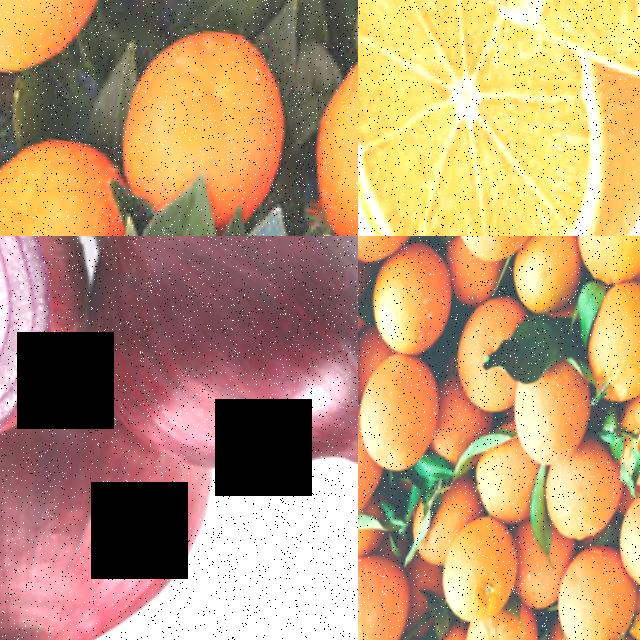onion: (51, 236, 358, 515), (0, 412, 219, 640), (0, 236, 105, 459)
orange: (358, 26, 640, 236), (100, 19, 300, 236), (482, 0, 640, 101), (287, 31, 358, 236), (0, 134, 123, 236), (358, 349, 450, 484), (358, 249, 459, 366), (0, 0, 121, 92), (529, 451, 626, 554), (432, 518, 522, 629), (498, 374, 592, 478), (444, 297, 519, 418), (573, 283, 640, 409), (543, 542, 622, 640), (463, 444, 541, 530), (508, 236, 582, 325), (358, 550, 415, 640), (563, 236, 640, 298), (605, 486, 640, 600), (445, 236, 546, 275), (610, 388, 640, 500), (358, 236, 433, 271), (449, 613, 538, 640), (358, 444, 381, 533)
